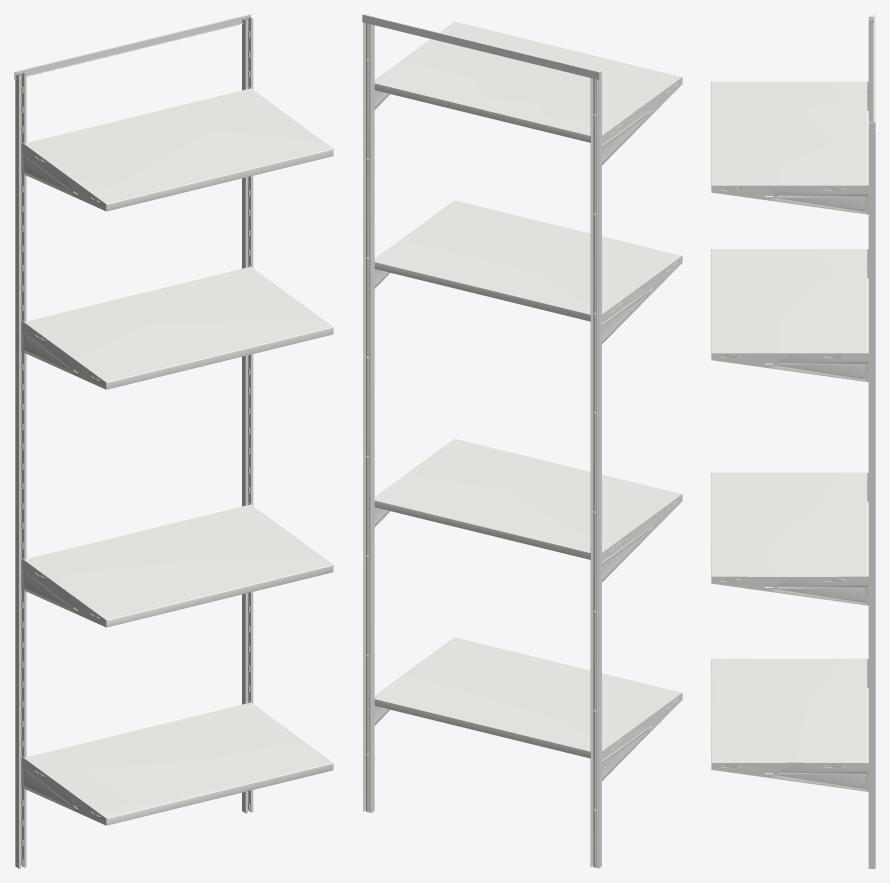
File: boaxel_rega_09392616.glb
The picture shows the model from 3 angles, left to right: view 1: azimuth 30°, elevation 25°; view 2: azimuth 150°, elevation 25°; view 3: azimuth 270°, elevation 25°; orthographic projection. The views are drawn at different scales.
Parts seen in each view (by area): view 1: boaxel_rega_09392616; view 2: boaxel_rega_09392616; view 3: boaxel_rega_09392616.
Part boxes in pixels (x1,y1,x2,y2): boaxel_rega_09392616: [14, 14, 333, 868]; boaxel_rega_09392616: [362, 14, 682, 868]; boaxel_rega_09392616: [711, 14, 875, 868].
Size of the model in its own units: 0.6241 by 2.01 by 0.4006.
Materials: 1 (1 with a texture image).
